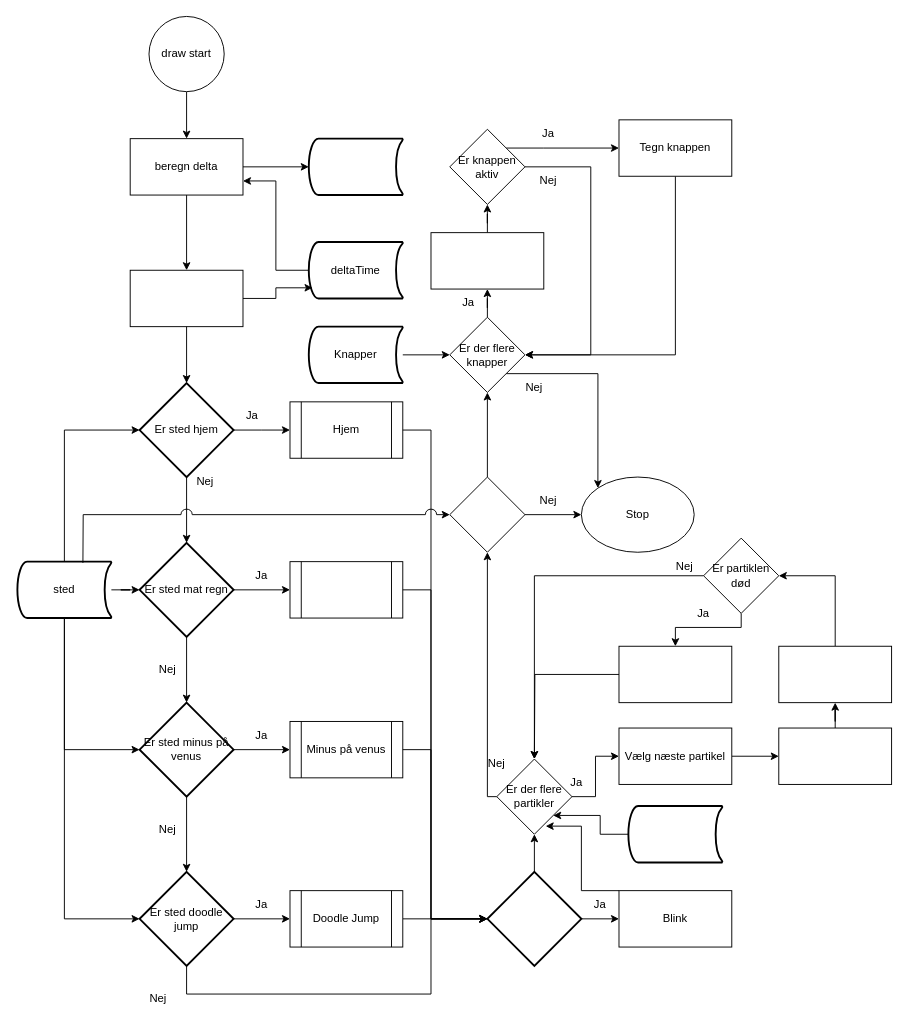
The diagram is 908 pixels wide and 1029 high, and some of its shapes have lost their labels. Each missing label, with the centre of its shape:
Bevæg Partiklen: (x=835, y=755)
delta: (x=355, y=166)
Dræb Partiklen: (x=675, y=674)
Er blinktimeren færdig: (x=534, y=918)
Er sted ikke hjem: (x=487, y=514)
Matematik regn: (x=346, y=589)
Partikler: (x=675, y=834)
sæt deltaTime til tiden: (x=186, y=298)
Tegn Partiklen: (x=835, y=674)
Vælg næste knap: (x=487, y=260)
